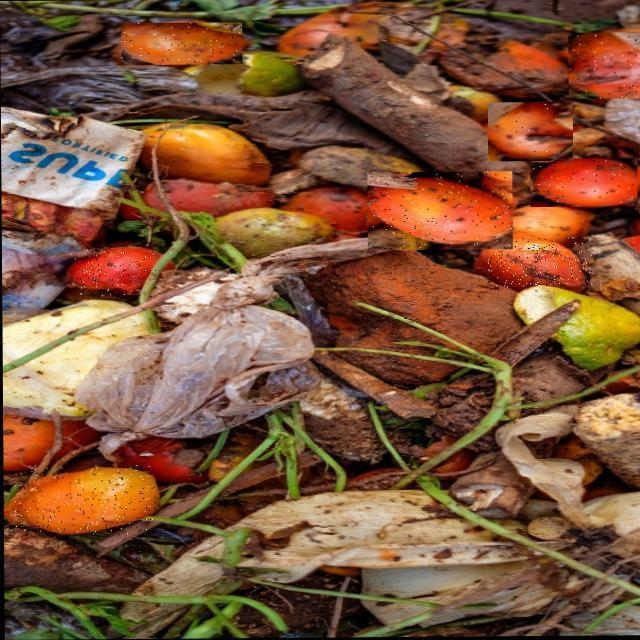other-trash: (1, 1, 639, 637)
